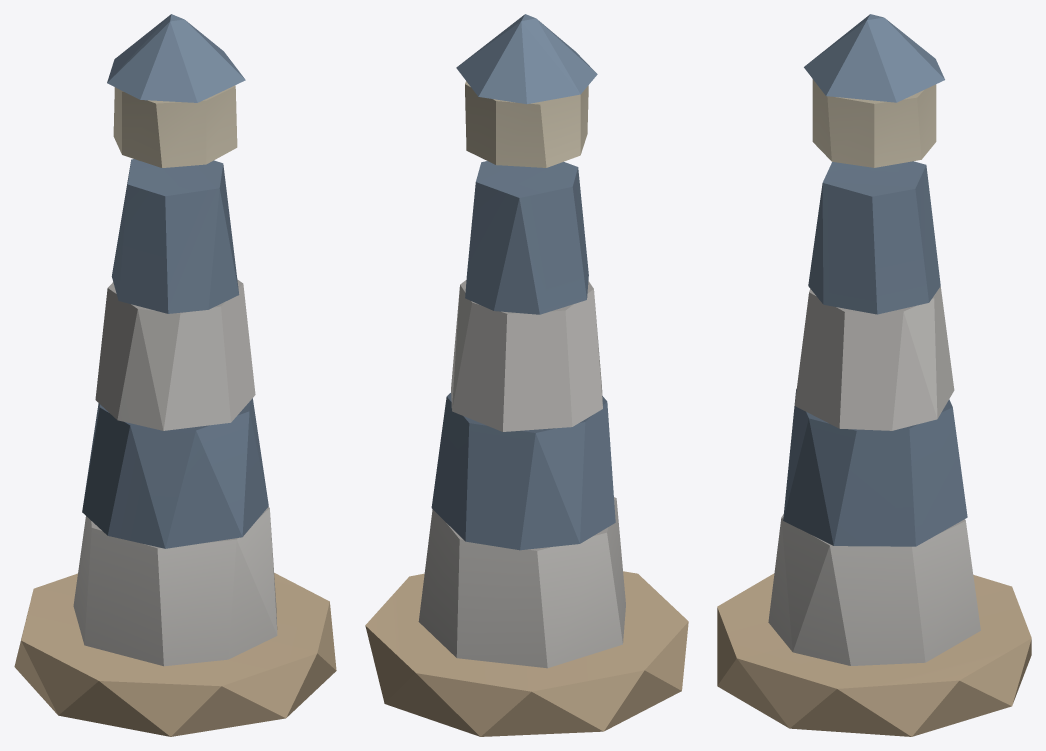
File: furn_mini_lighthouse__navy_low.glb
3 views of the same model, side by side, from view 1: azimuth 30°, elevation 25°; view 2: azimuth 150°, elevation 25°; view 3: azimuth 270°, elevation 25° (orthographic).
Size of the model in its own units: 0.356 by 0.8156 by 0.356.
